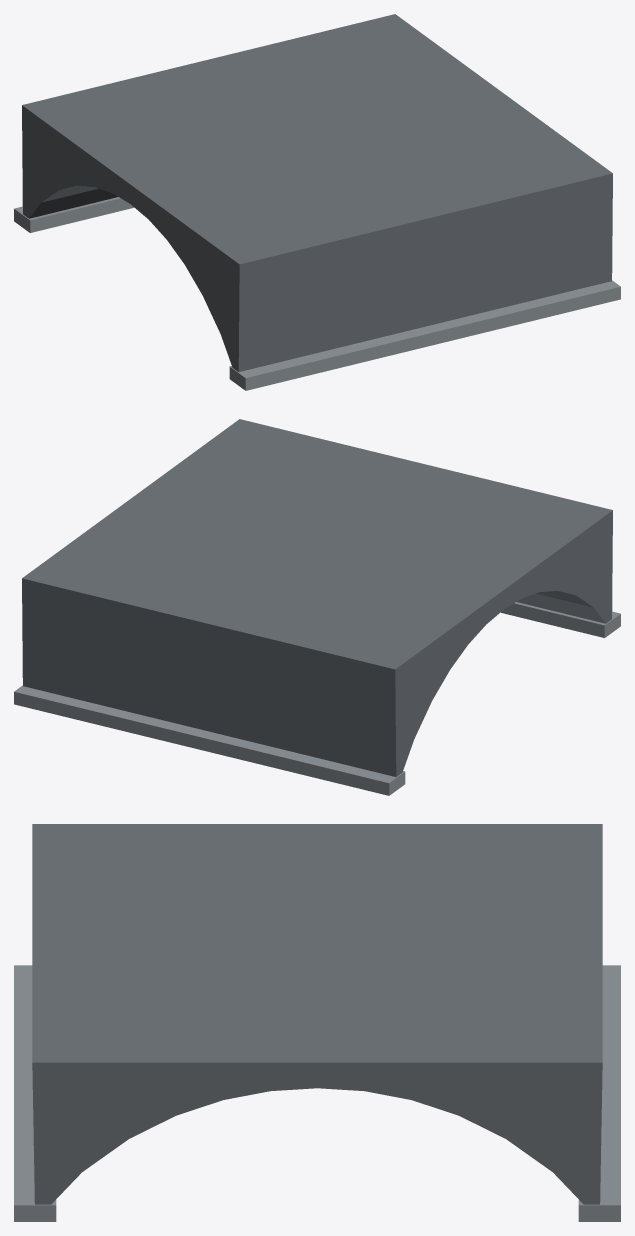
File: mdvl_dungeon_vault_01.glb
3 views of the same model, one above another, from view 1: azimuth 30°, elevation 25°; view 2: azimuth 150°, elevation 25°; view 3: azimuth 270°, elevation 25° (orthographic). The views are drawn at different scales.
Parts seen in each view (by area): view 1: mdvl_dungeon_vault_01; view 2: mdvl_dungeon_vault_01; view 3: mdvl_dungeon_vault_01.
Part boxes in pixels (box(x1,y1,x2,y2)): mdvl_dungeon_vault_01: box(14, 14, 620, 390); mdvl_dungeon_vault_01: box(14, 419, 620, 795); mdvl_dungeon_vault_01: box(14, 824, 620, 1221).
Bounding box in the file's own units: 2.01 × 0.683 × 2.15.
Materials: 1 (1 with a texture image).
